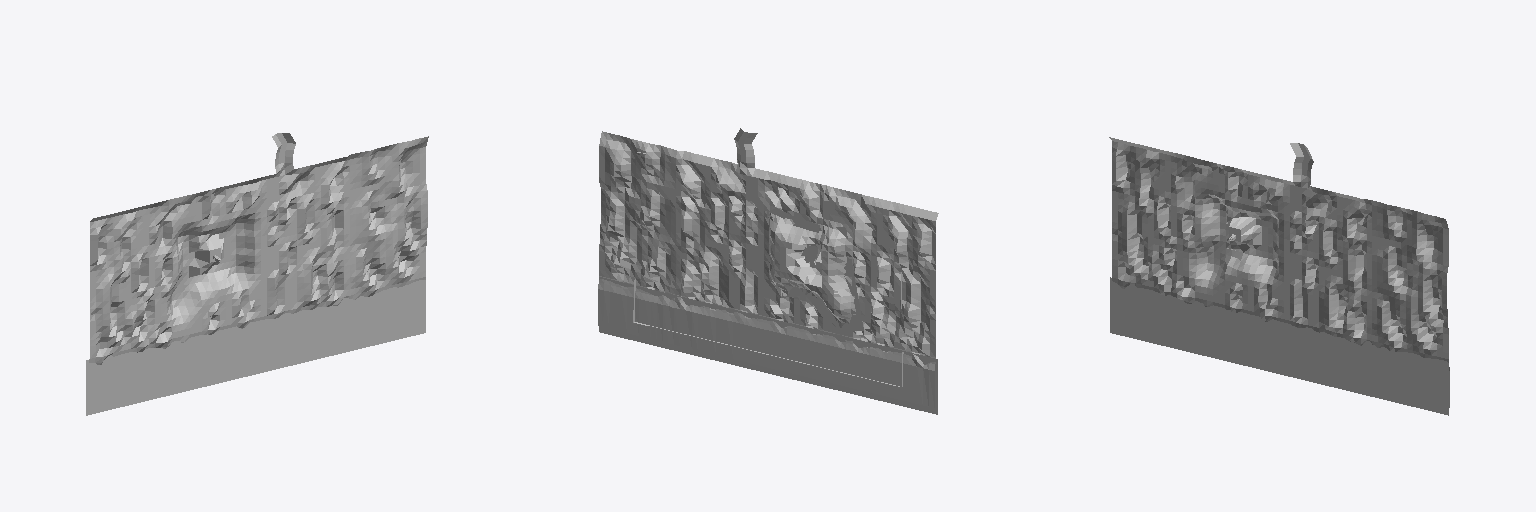
The model's file is oasis.obj.
3 views of the same model, side by side, from view 1: azimuth 30°, elevation 25°; view 2: azimuth 150°, elevation 25°; view 3: azimuth 330°, elevation 25° (orthographic).
Parts seen in each view (by area): view 1: oasis, sea, water; view 2: oasis, sea, water; view 3: oasis, sea, water.
Part boxes in pixels (bbox=[...]): oasis: bbox=[86, 133, 428, 366]; sea: bbox=[86, 284, 425, 415]; water: bbox=[170, 218, 251, 316]; oasis: bbox=[598, 128, 938, 367]; sea: bbox=[598, 285, 937, 414]; water: bbox=[770, 220, 850, 318]; oasis: bbox=[1109, 137, 1449, 367]; sea: bbox=[1110, 283, 1449, 415]; water: bbox=[1197, 196, 1278, 280].
Bounding box in the file's own units: 5740 × 3807 × 394.